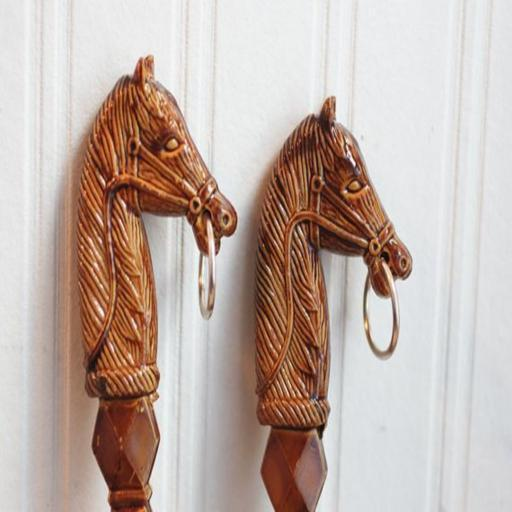horse: (76, 48, 236, 396), (256, 93, 415, 431)
